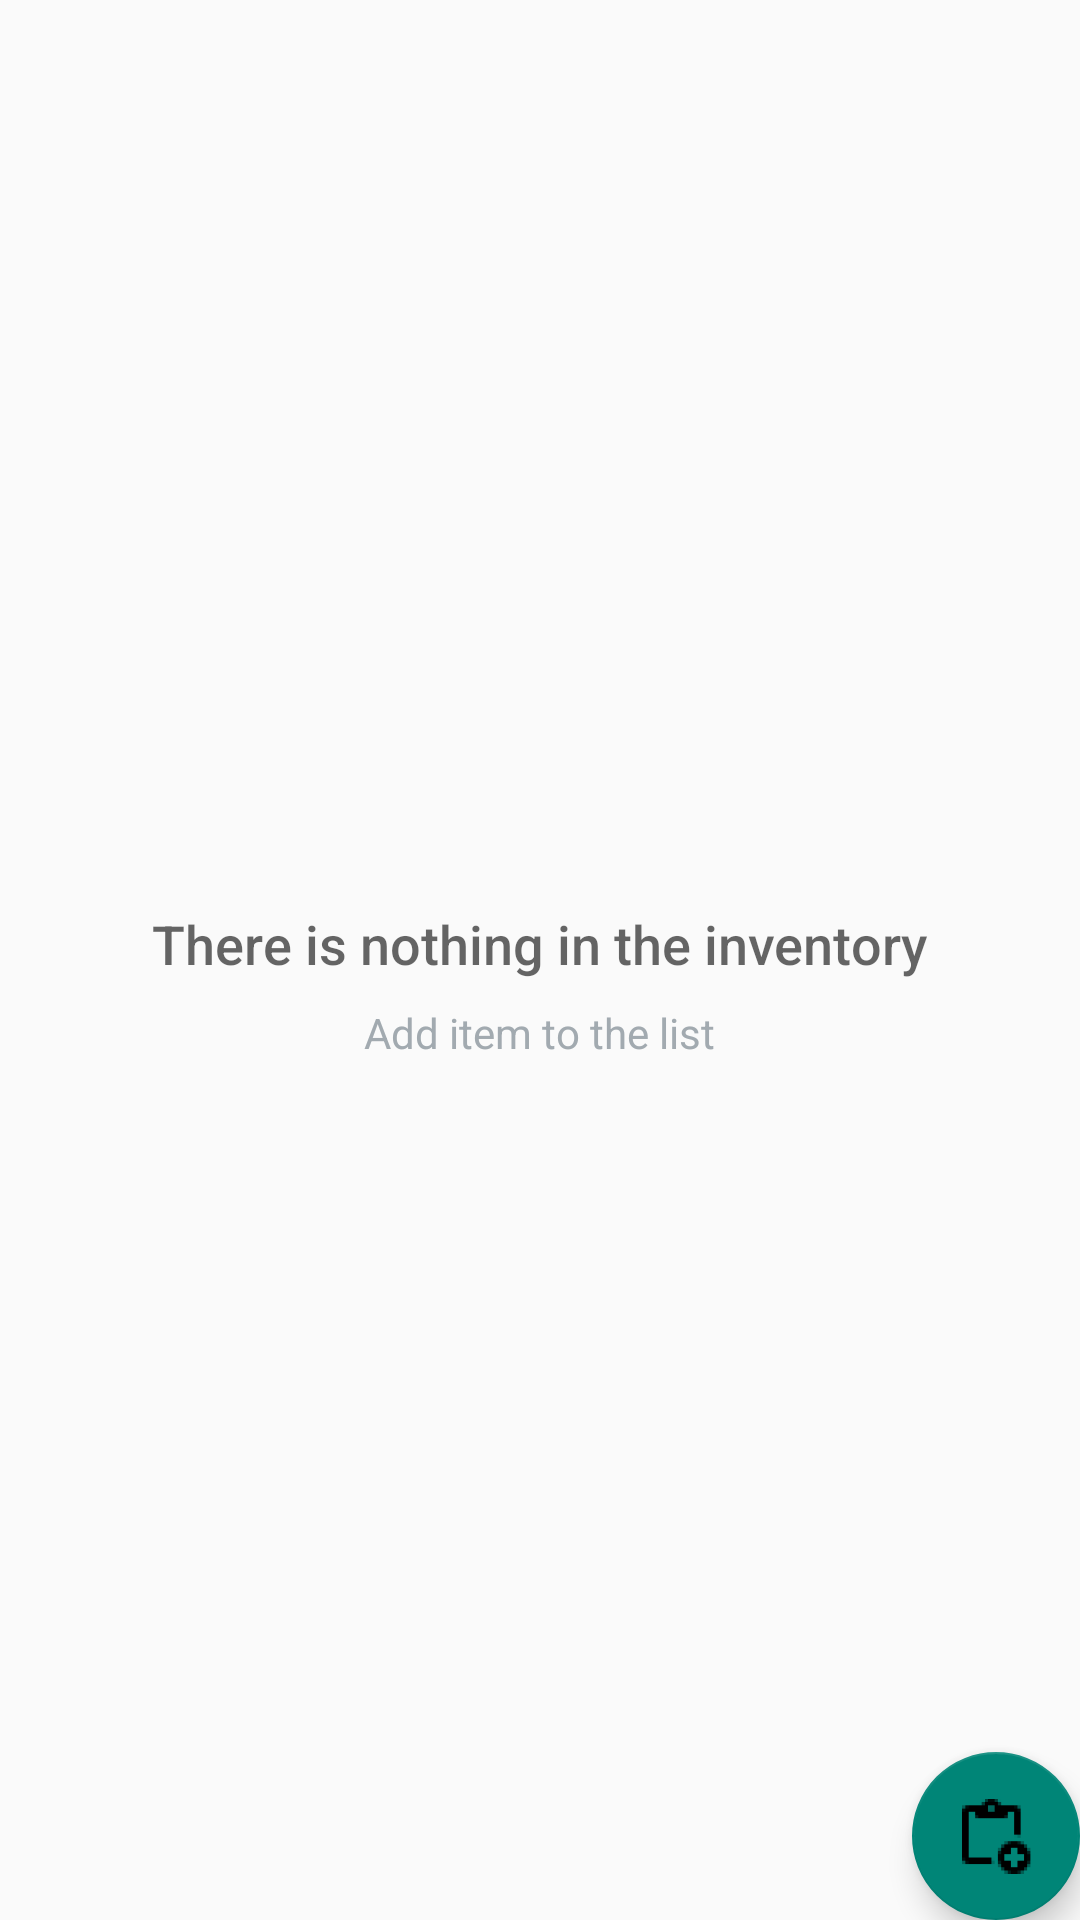

Screen size 1080px×1920px. Icon name, then its box in pixels as detection(x1, y1, x2, y2):
add item: detection(912, 1752, 1080, 1920)
